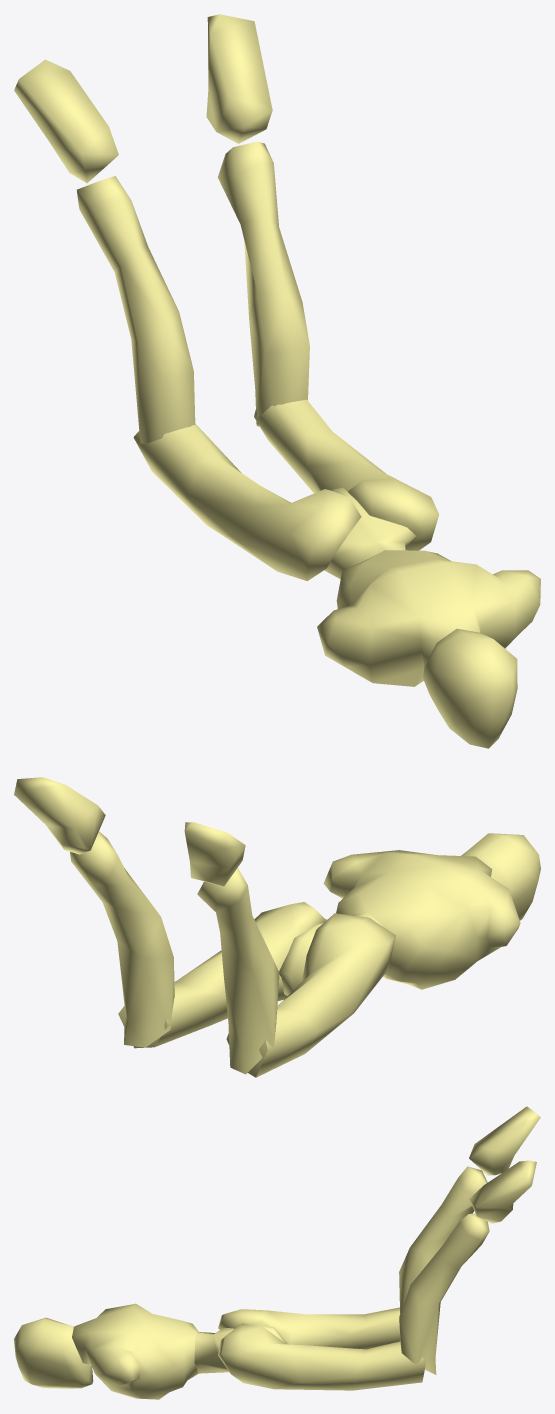
Rendered from filth62.obj.
The picture shows the model from 3 angles, top to bottom: view 1: azimuth 30°, elevation 25°; view 2: azimuth 150°, elevation 25°; view 3: azimuth 270°, elevation 25°; orthographic projection. The views are drawn at different scales.
Parts seen in each view (by area): view 1: Melee_Husk; view 2: Melee_Husk; view 3: Melee_Husk.
Part boxes in pixels (x1,y1,x2,y2): Melee_Husk: (14, 14, 540, 748); Melee_Husk: (14, 777, 540, 1077); Melee_Husk: (14, 1106, 540, 1399).
Size of the model in its own units: 23.74 by 39.31 by 70.5.
